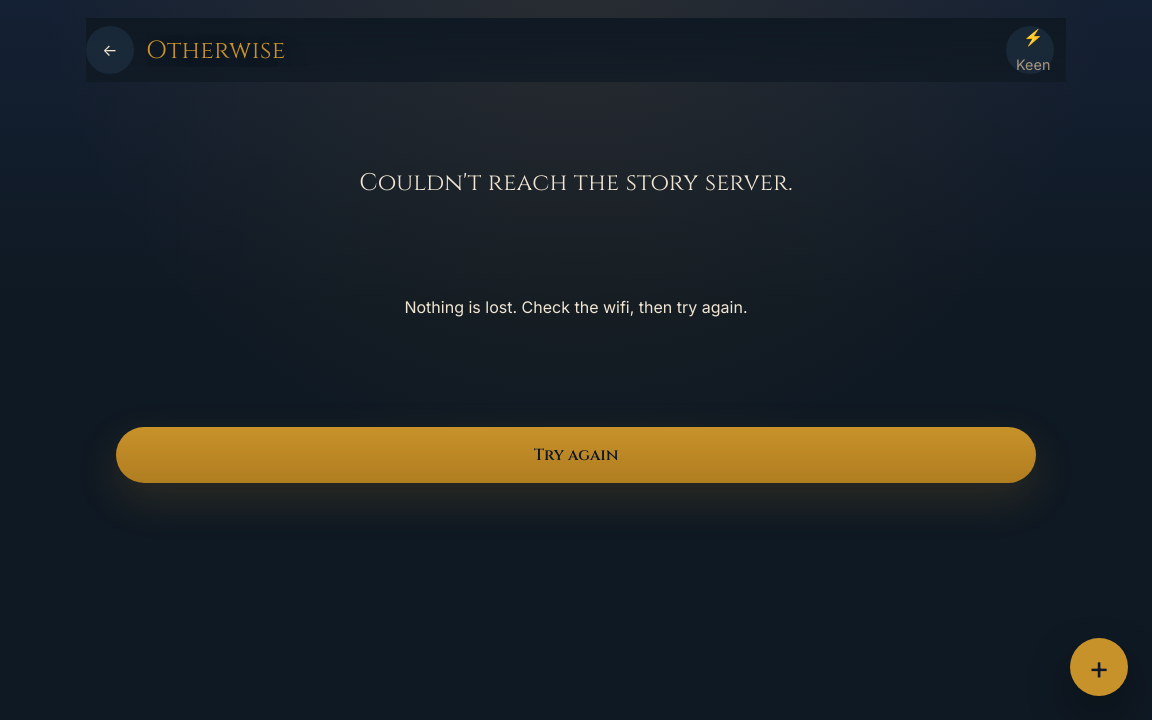
Test case: O-10: a failure is not an empty page › the library on bad wifi does not say 'No universes yet'
The image size is (1152, 720).
Check: the heading "Couldn't reach the story server." is shown, box [359,167,793,199]
Click the button "Try again" at (576, 455), box [116,427,1036,483]
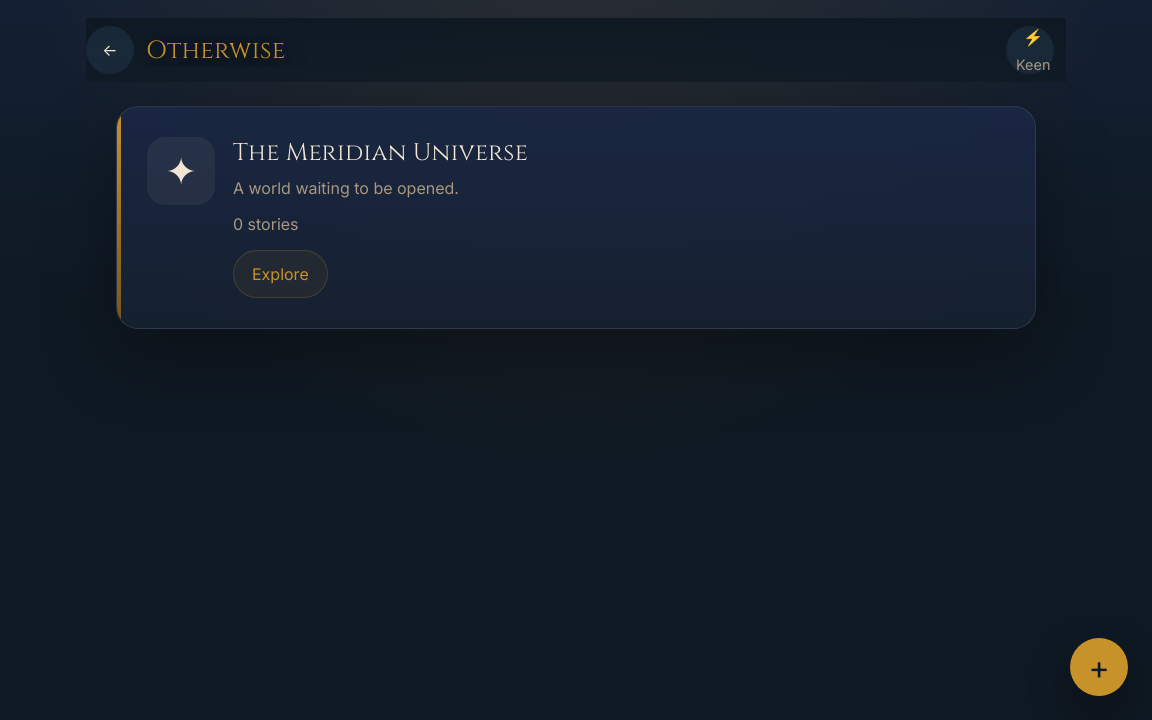
Check: the heading "The Meridian Universe" is shown, box [233,137,528,169]
